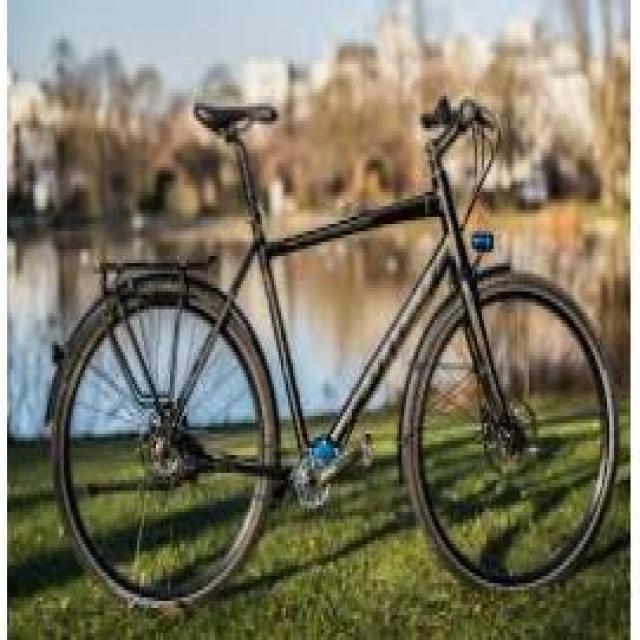bicycle: (56, 65, 618, 599)
